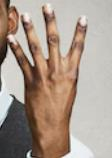right: (6, 2, 89, 120)
